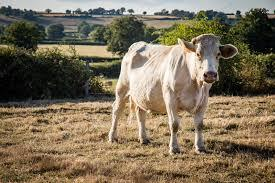cow: (108, 33, 239, 154)
